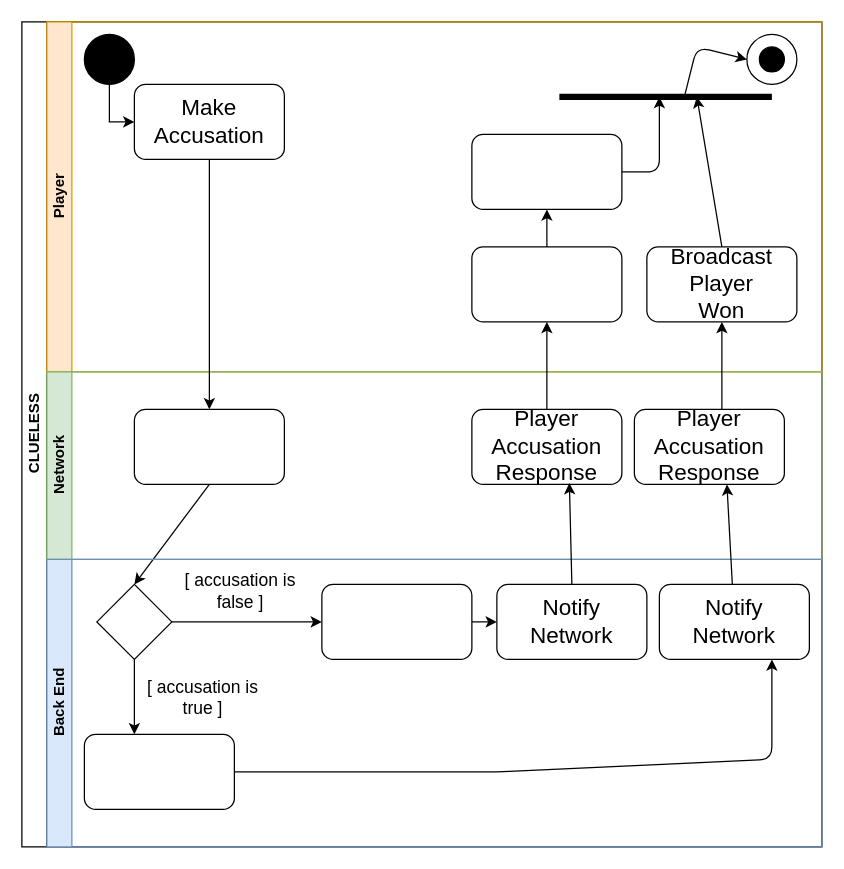
The diagram is 844 pixels wide and 869 high, and some of its shapes have lost their labels. Here are the shapes that lost their labels. From the top down, the box of each, then its label:
(471, 133, 622, 209): Broadcast Player Lost
(471, 246, 622, 322): Broadcast Accusation Response
(133, 408, 284, 484): Player Accusation Request
(321, 583, 472, 659): Update Player Status
(83, 733, 234, 809): Update Game Status
